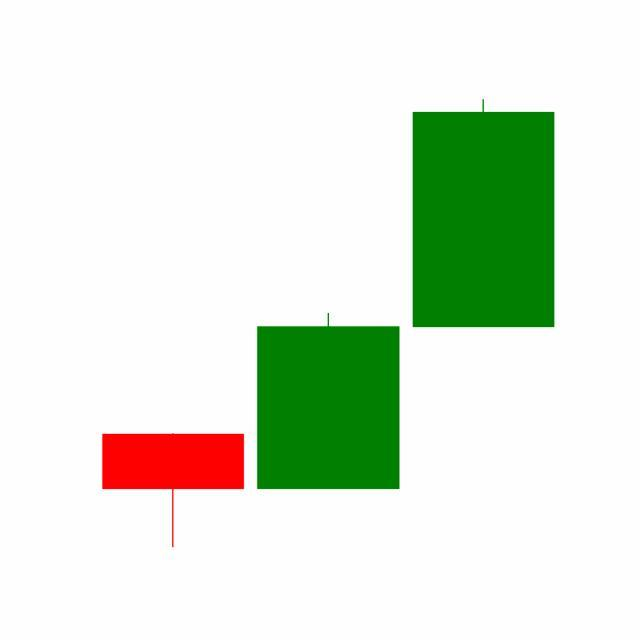Marubozu: (406, 96, 562, 330)
